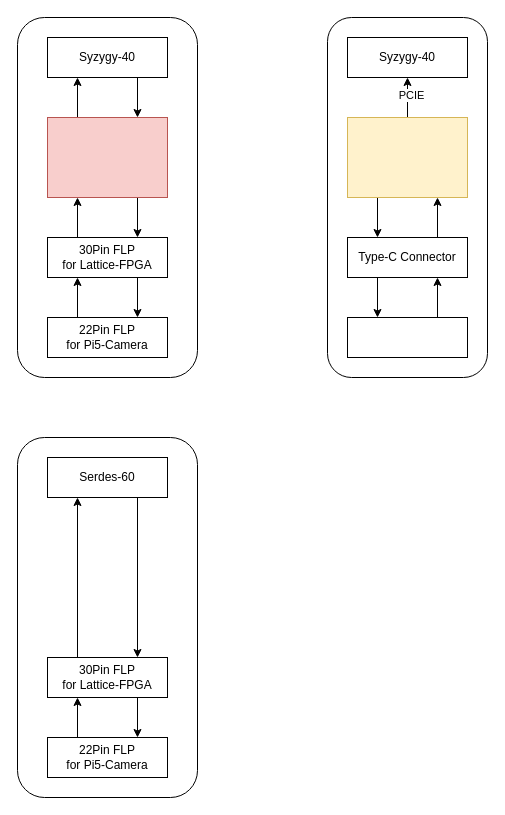
The diagram is 505 pixels wide and 815 high, and some of its shapes have lost their labels. Each missing label, with the centre of its shape:
"MC20901 MIPI to LVDS 5-Pair to 10-Pair" belongs at (x=107, y=157).
"Other TB-x Interface" belongs at (x=407, y=337).
"Thunderbolt-X Board" belongs at (x=407, y=157).
